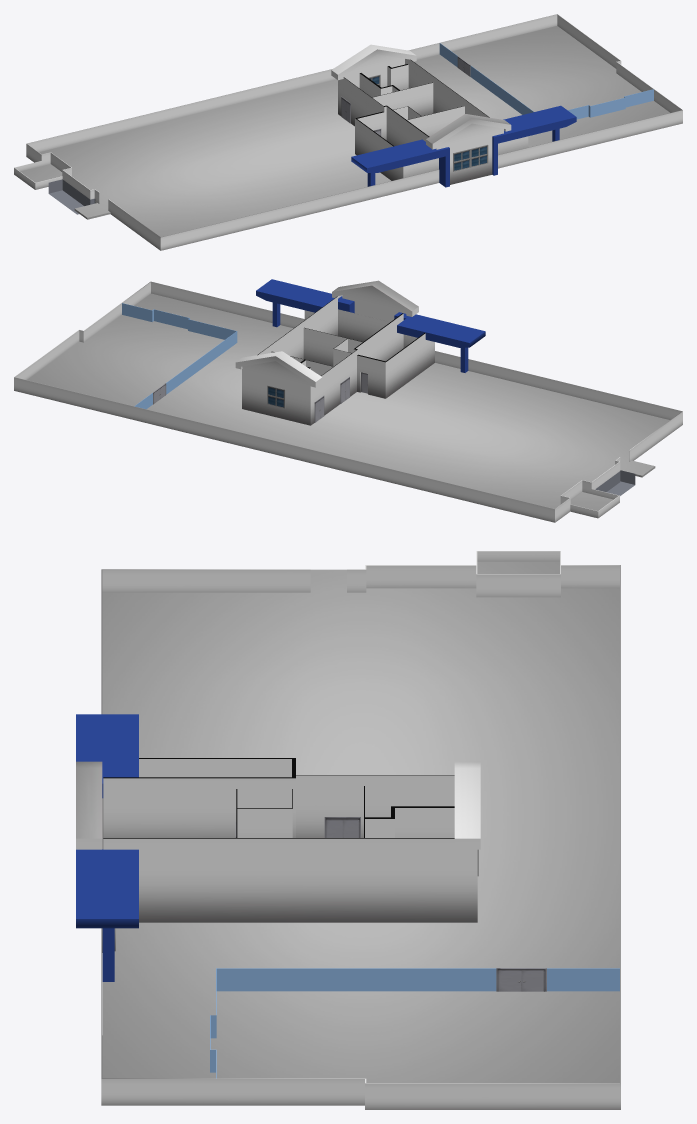
Rendered from soulbrain_F-5-3F.glb.
3 renders of one model, top to bottom at view 1: azimuth 30°, elevation 25°; view 2: azimuth 150°, elevation 25°; view 3: azimuth 270°, elevation 25°, orthographic. The views are drawn at different scales.
Visible parts, largest first — view 1: Line199, F-5-3F, Box190, Box358; view 2: Line199, F-5-3F, Box190, Box358; view 3: Line199, Box190, F-5-3F, Box358.
Boxes of the visible parts, left/top/right/bottom form: Line199: left=20, top=26, right=669, bottom=237; F-5-3F: left=14, top=14, right=682, bottom=250; Box190: left=338, top=54, right=528, bottom=180; Box358: left=439, top=43, right=653, bottom=119; Line199: left=27, top=293, right=669, bottom=510; F-5-3F: left=14, top=279, right=682, bottom=522; Box190: left=242, top=296, right=434, bottom=425; Box358: left=122, top=303, right=237, bottom=409; Line199: left=102, top=561, right=619, bottom=1082; Box190: left=102, top=758, right=477, bottom=952; F-5-3F: left=76, top=551, right=620, bottom=1109; Box358: left=210, top=968, right=619, bottom=1078.
Size of the model in its own units: 63.87 by 7.59 by 26.98.
11 materials, 8 textured.
